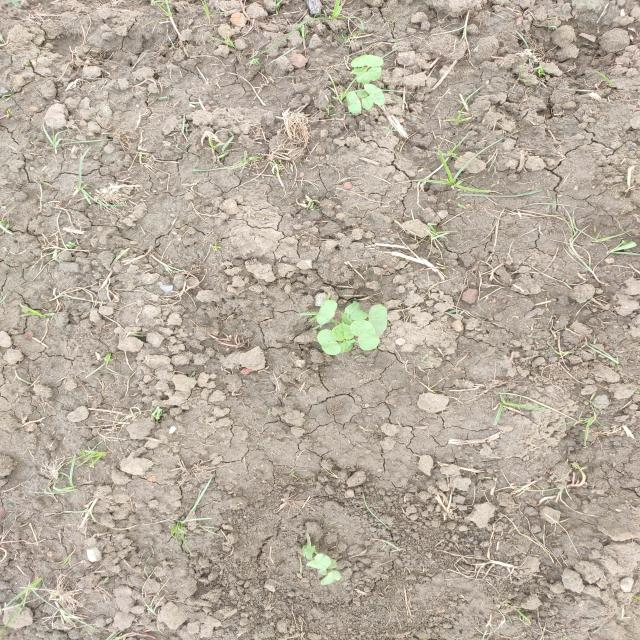seedling_s4: (350, 320, 380, 351), (317, 329, 341, 355), (368, 305, 388, 333), (316, 300, 338, 325), (307, 553, 331, 572), (356, 67, 382, 84), (364, 84, 385, 105), (332, 321, 354, 341), (344, 302, 368, 320), (351, 55, 384, 68), (346, 91, 362, 114), (321, 571, 341, 585), (339, 339, 358, 353), (302, 545, 316, 560), (362, 96, 374, 110), (350, 66, 367, 75), (341, 313, 352, 325), (357, 90, 368, 98)
